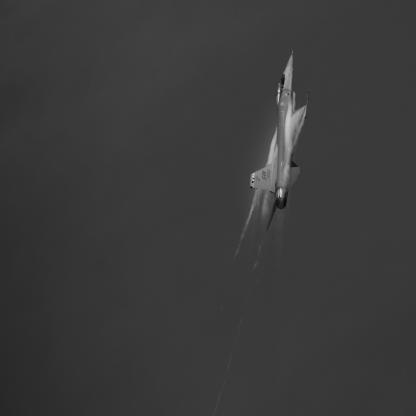F16: (251, 50, 311, 234)
